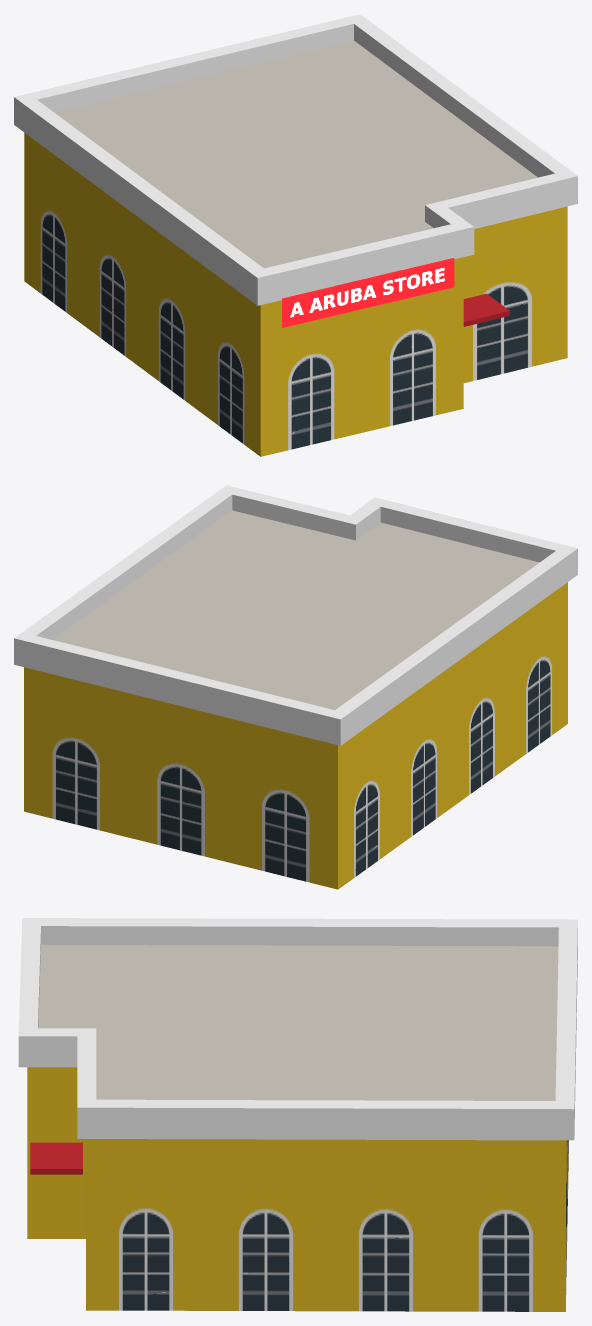
Rendered from arubastore_sn.glb.
3 views of the same model, one above another, from view 1: azimuth 30°, elevation 25°; view 2: azimuth 150°, elevation 25°; view 3: azimuth 270°, elevation 25° (orthographic). The views are drawn at different scales.
Visible parts, largest first — view 1: arubastore_sn_lod0; view 2: arubastore_sn_lod0; view 3: arubastore_sn_lod0.
Boxes of the visible parts, x1,y1,x2,y2 form: arubastore_sn_lod0: [14, 14, 577, 456]; arubastore_sn_lod0: [14, 485, 577, 889]; arubastore_sn_lod0: [18, 918, 577, 1311].
Size of what is drawn, in the model's own units: 13.1 by 6.6 by 16.34.
6 materials, 2 textured.
